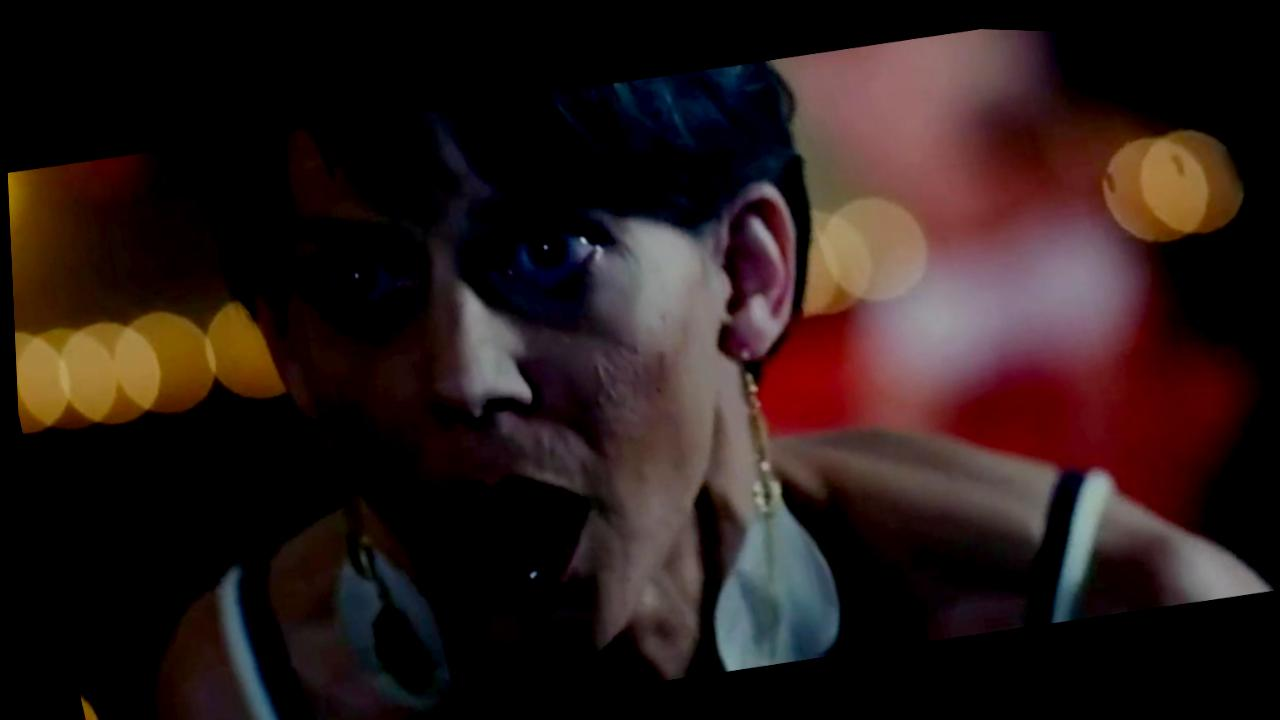Fire: (470, 543, 552, 694)
